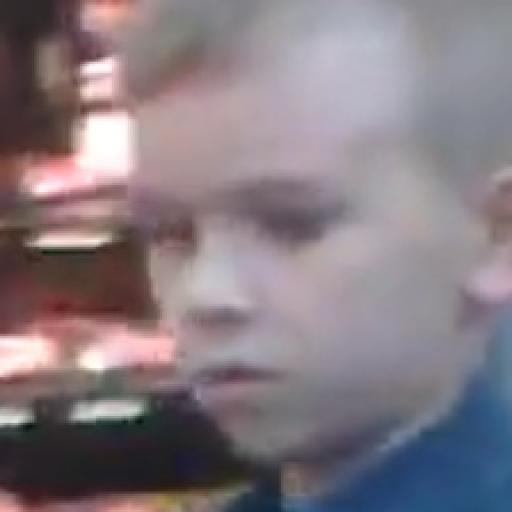Autism: (126, 17, 512, 472)
